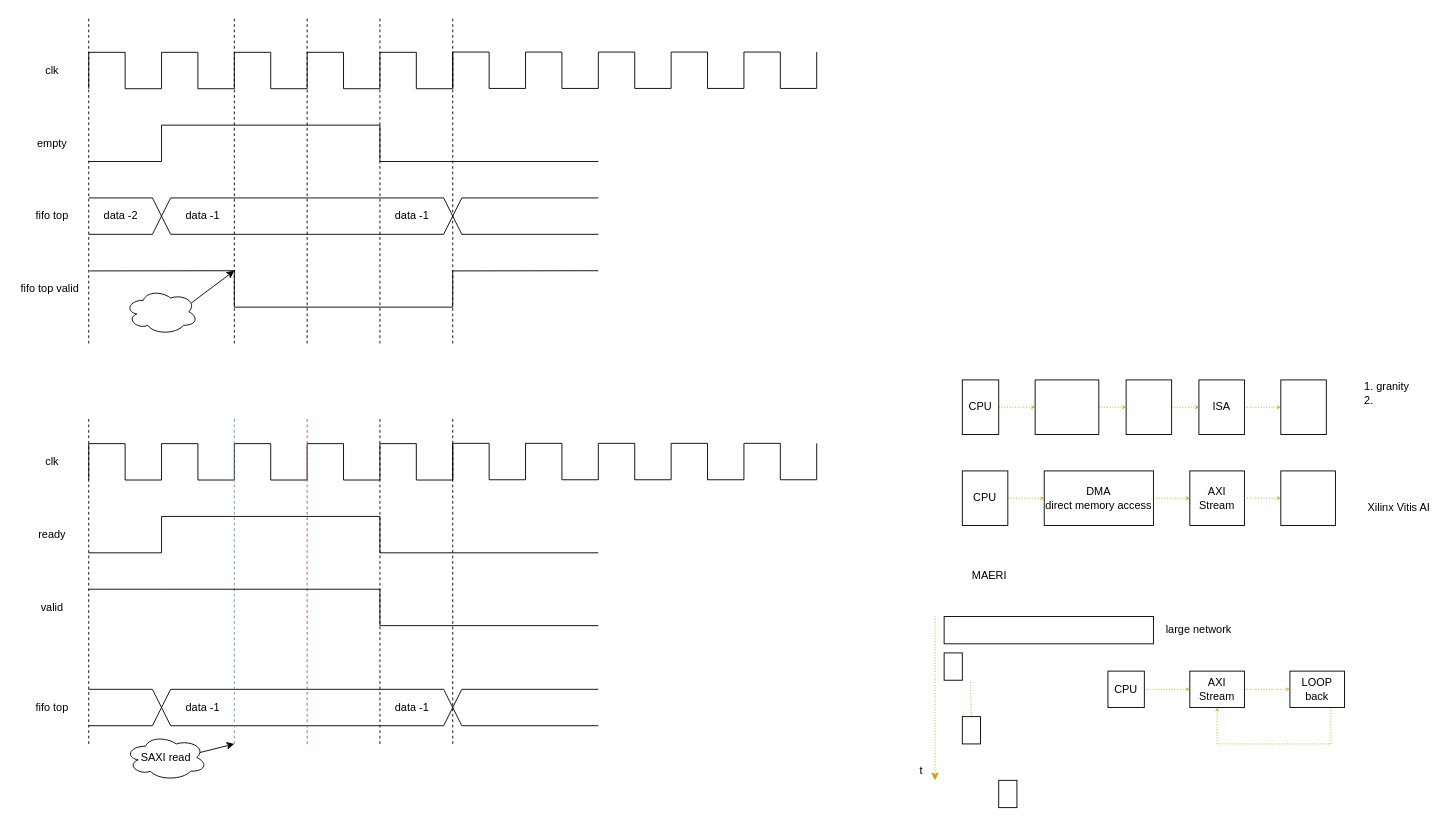
The diagram is 1451 pixels wide and 824 high, and some of its shapes have lost their labels. Here are the shapes that lost their labels. From the top down, the centre of each, then its label:
At point 161,311: "read once".
At point 1066,407: "API Pytorch".
At point 1148,407: "IR".
At point 1303,407: "GPU".
At point 1307,498: "DPU FPGA".
